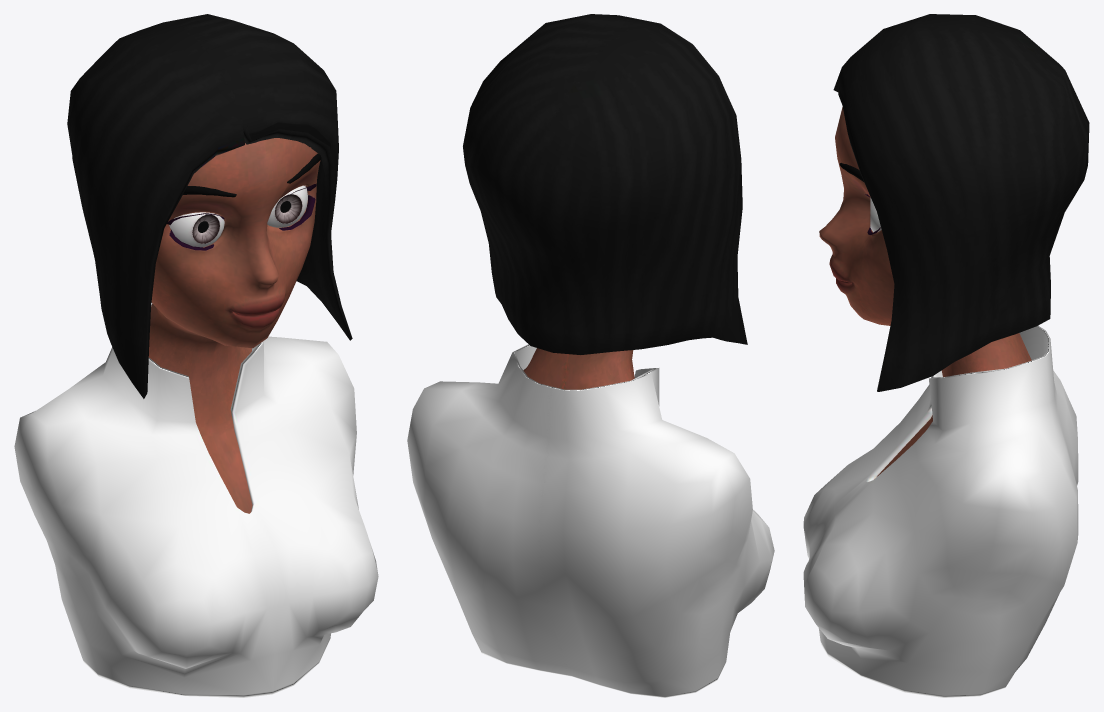
File: female3.glb
3 views of the same model, side by side, from view 1: azimuth 30°, elevation 25°; view 2: azimuth 150°, elevation 25°; view 3: azimuth 270°, elevation 25° (orthographic). The views are drawn at different scales.
Visible parts, largest first — view 1: lawyer_female; view 2: lawyer_female; view 3: lawyer_female.
Boxes of the visible parts, left/top/right/bottom form: lawyer_female: left=14, top=14, right=378, bottom=697; lawyer_female: left=407, top=14, right=774, bottom=697; lawyer_female: left=803, top=14, right=1089, bottom=697.
Size of the model in its own units: 0.2949 by 0.5527 by 0.2348.
Materials: 1 (1 with a texture image).
